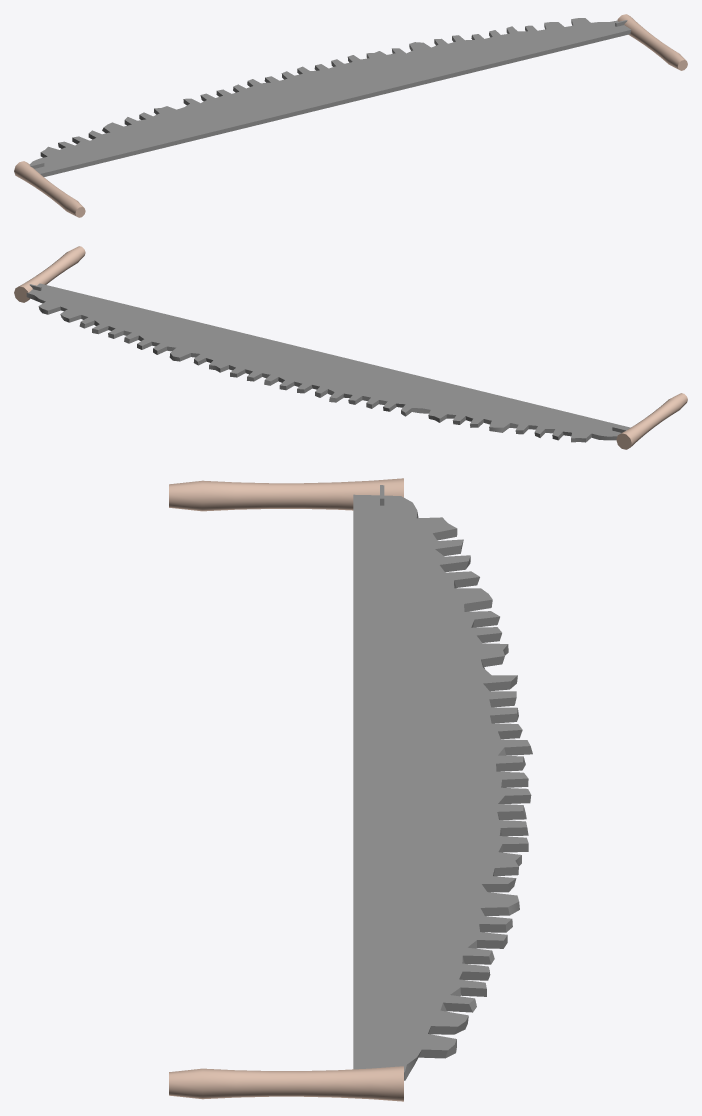
The model's file is Tools_Hacksaw.FBX.
The picture shows the model from 3 angles, top to bottom: view 1: azimuth 30°, elevation 25°; view 2: azimuth 150°, elevation 25°; view 3: azimuth 270°, elevation 25°; orthographic projection. The views are drawn at different scales.
Visible parts, largest first — view 1: Box001; view 2: Box001; view 3: Box001.
Boxes of the visible parts, bbox=[...] form: Box001: bbox=[14, 14, 687, 217]; Box001: bbox=[14, 246, 687, 449]; Box001: bbox=[169, 478, 532, 1101].
Bounding box in the file's own units: 125 × 2.97 × 31.79.
